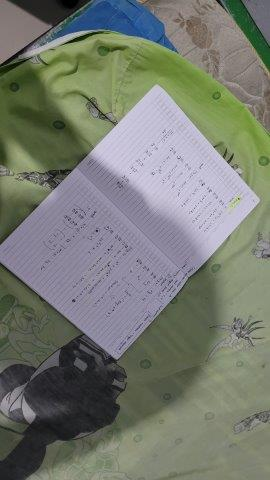kertas: (1, 84, 261, 360)
